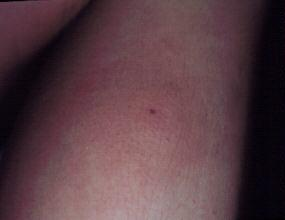Yellow-Jacket: (136, 100, 169, 123)
